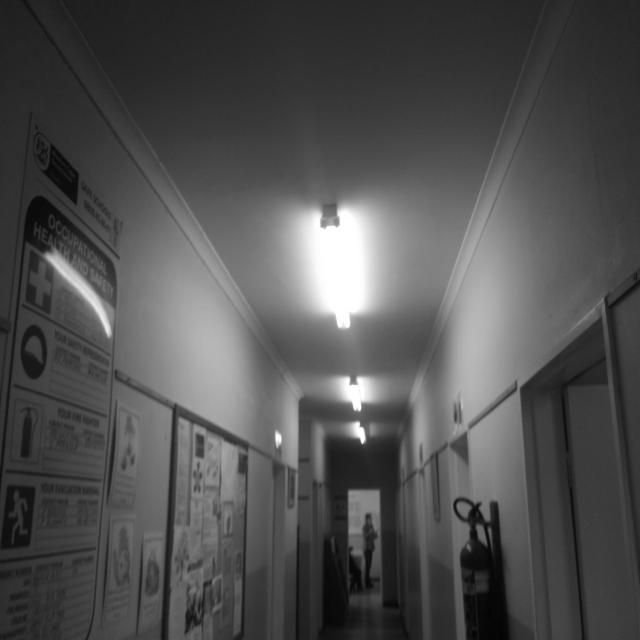light: (316, 206, 362, 326), (348, 376, 362, 412)
